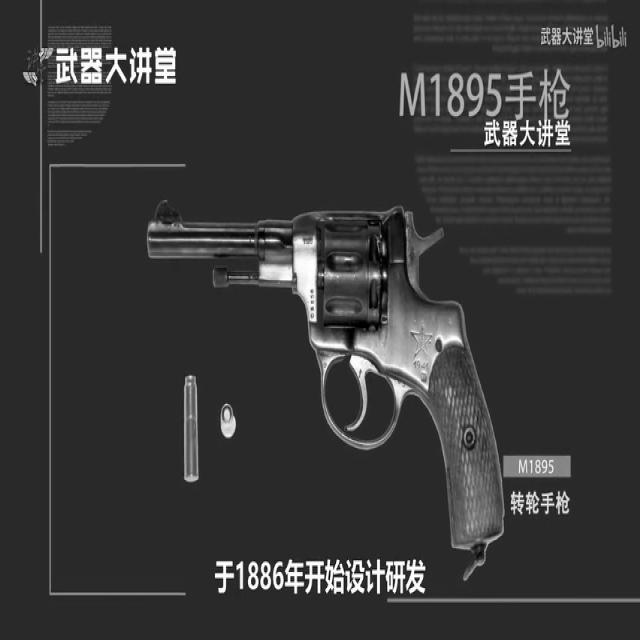Hand-Gun: (145, 192, 518, 572)
